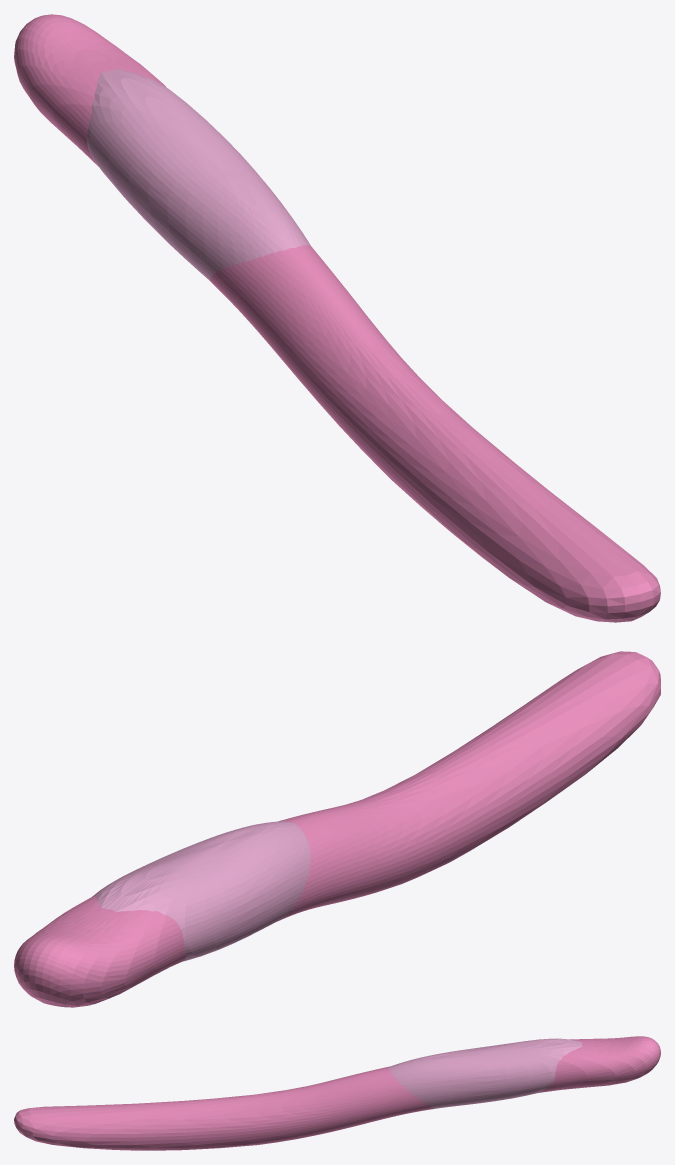
Rendered from mesk.dae.
3 renders of one model, top to bottom at view 1: azimuth 30°, elevation 25°; view 2: azimuth 150°, elevation 25°; view 3: azimuth 270°, elevation 25°, orthographic. The views are drawn at different scales.
Parts seen in each view (by area): view 1: Sphere, Sphere.001; view 2: Sphere, Sphere.001; view 3: Sphere, Sphere.001.
Part boxes in pixels (left/top/right/bottom): Sphere: left=14, top=14, right=660, bottom=622; Sphere.001: left=87, top=69, right=310, bottom=280; Sphere: left=14, top=651, right=660, bottom=1007; Sphere.001: left=92, top=821, right=310, bottom=961; Sphere: left=14, top=1036, right=660, bottom=1150; Sphere.001: left=389, top=1038, right=582, bottom=1108.
Bounding box in the file's own units: 2.82 × 28.39 × 5.21.
